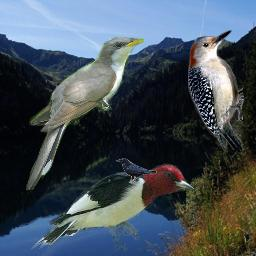Crow: (116, 158, 157, 184)
Cuckoo: (26, 37, 144, 190)
Woodpecker: (31, 157, 200, 256), (188, 30, 247, 150)
